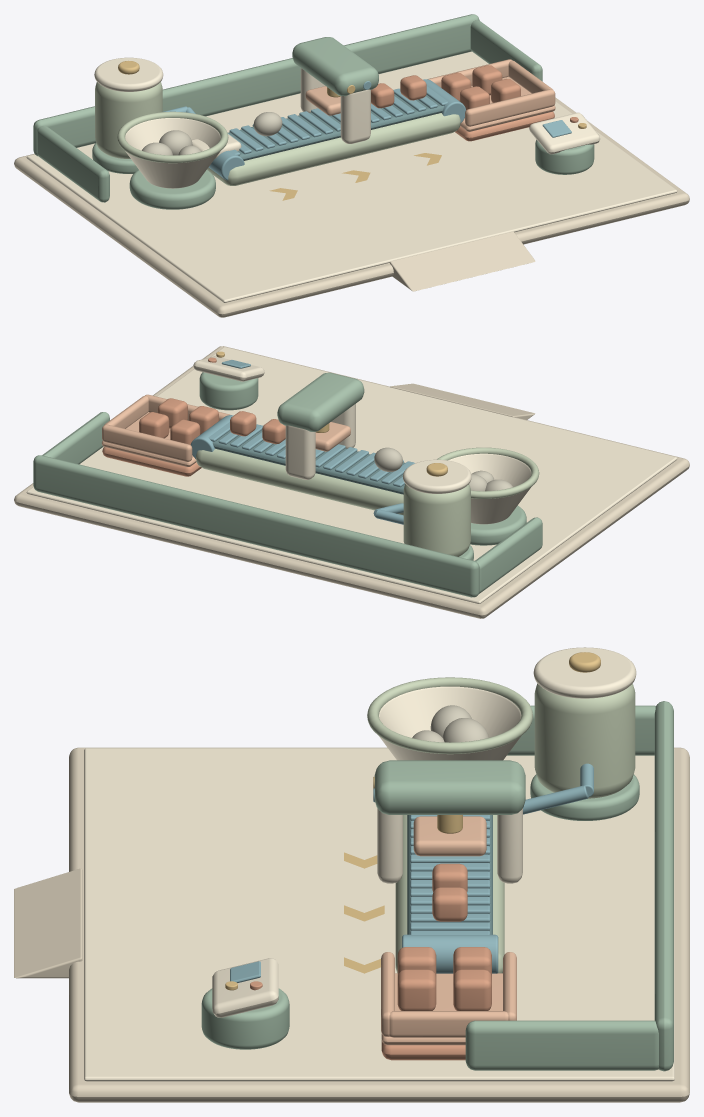
File: material_processing.glb
The picture shows the model from 3 angles, top to bottom: view 1: azimuth 30°, elevation 25°; view 2: azimuth 150°, elevation 25°; view 3: azimuth 270°, elevation 25°; orthographic projection. The views are drawn at different scales.
Visible parts, largest first — view 1: Processing | inset open floor, Processing | back low wall, Processing | rounded foundation, Conveyor | pale rounded frame, Processing | lip-free 2D entrance, Hopper | hollow raw input bowl, Press | rounded overhead bridge, Reservoir | rounded tank, Processing | side return, Hopper | broad foot, Conveyor | continuous dark belt, Hopper | soft lip (+23 smaller); view 2: Processing | inset open floor, Processing | back low wall, Processing | rounded foundation, Conveyor | pale rounded frame, Reservoir | rounded tank, Press | rounded overhead bridge, Hopper | hollow raw input bowl, Processing | side return, Conveyor | continuous dark belt, Control | pedestal, Reservoir | cream lid, Output | tray long rim.001 (+19 smaller); view 3: Processing | inset open floor, Processing | rounded foundation, Processing | side return.001, Reservoir | rounded tank, Press | rounded overhead bridge, Processing | back low wall, Processing | lip-free 2D entrance, Hopper | hollow raw input bowl, Hopper | soft lip, Reservoir | cream lid, Control | pedestal, Press | separate press head (+22 smaller).
Boxes of the visible parts, left/top/right/bottom form: Processing | inset open floor: left=26, top=51, right=677, bottom=302; Processing | back low wall: left=33, top=14, right=479, bottom=156; Processing | rounded foundation: left=14, top=97, right=689, bottom=317; Conveyor | pale rounded frame: left=207, top=113, right=460, bottom=185; Processing | lip-free 2D entrance: left=390, top=231, right=535, bottom=291; Hopper | hollow raw input bowl: left=125, top=118, right=220, bottom=188; Press | rounded overhead bridge: left=292, top=37, right=378, bottom=96; Reservoir | rounded tank: left=95, top=82, right=162, bottom=158; Processing | side return: left=37, top=125, right=109, bottom=202; Hopper | broad foot: left=129, top=169, right=215, bottom=209; Conveyor | continuous dark belt: left=228, top=94, right=443, bottom=160; Hopper | soft lip: left=117, top=111, right=228, bottom=163; Processing | inset open floor: left=26, top=347, right=677, bottom=603; Processing | back low wall: left=33, top=455, right=479, bottom=597; Processing | rounded foundation: left=14, top=346, right=689, bottom=618; Conveyor | pale rounded frame: left=196, top=448, right=403, bottom=515; Reservoir | rounded tank: left=403, top=484, right=470, bottom=556; Press | rounded overhead bridge: left=277, top=372, right=364, bottom=431; Hopper | hollow raw input bowl: left=448, top=453, right=531, bottom=524; Processing | side return: left=475, top=517, right=542, bottom=593; Conveyor | continuous dark belt: left=212, top=430, right=404, bottom=494; Control | pedestal: left=199, top=372, right=258, bottom=410; Reservoir | cream lid: left=402, top=459, right=471, bottom=493; Output | tray long rim.001: left=102, top=424, right=192, bottom=461; Processing | inset open floor: left=84, top=748, right=674, bottom=1081; Processing | rounded foundation: left=69, top=747, right=689, bottom=1102; Processing | side return.001: left=465, top=1020, right=658, bottom=1070; Reservoir | rounded tank: left=534, top=683, right=635, bottom=798; Press | rounded overhead bridge: left=374, top=760, right=525, bottom=814; Processing | back low wall: left=654, top=701, right=673, bottom=1071; Processing | lip-free 2D entrance: left=14, top=868, right=82, bottom=978; Hopper | hollow raw input bowl: left=378, top=686, right=521, bottom=760; Hopper | soft lip: left=367, top=677, right=532, bottom=754; Reservoir | cream lid: left=533, top=647, right=636, bottom=698; Control | pedestal: left=201, top=988, right=289, bottom=1049; Press | separate press head: left=413, top=816, right=486, bottom=856.
Size of the model in its own units: 7.6 by 1.73 by 6.31.
